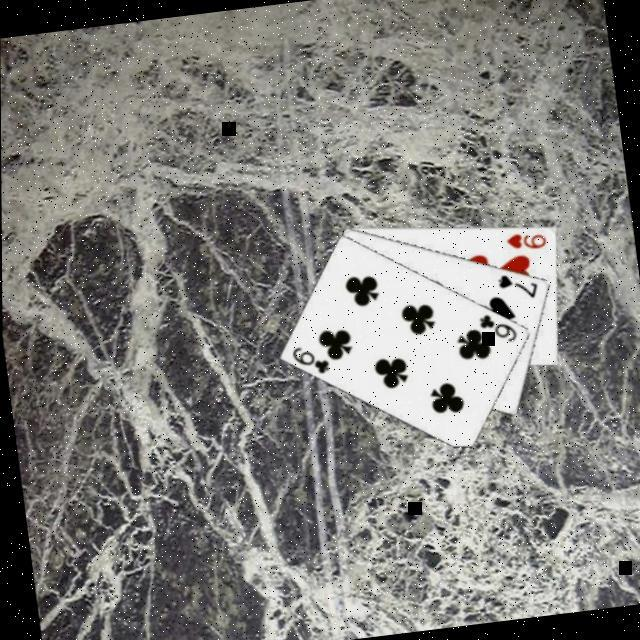6C: (477, 304, 522, 346), (288, 337, 334, 378)
7S: (495, 265, 543, 302)
9H: (504, 224, 550, 252)
